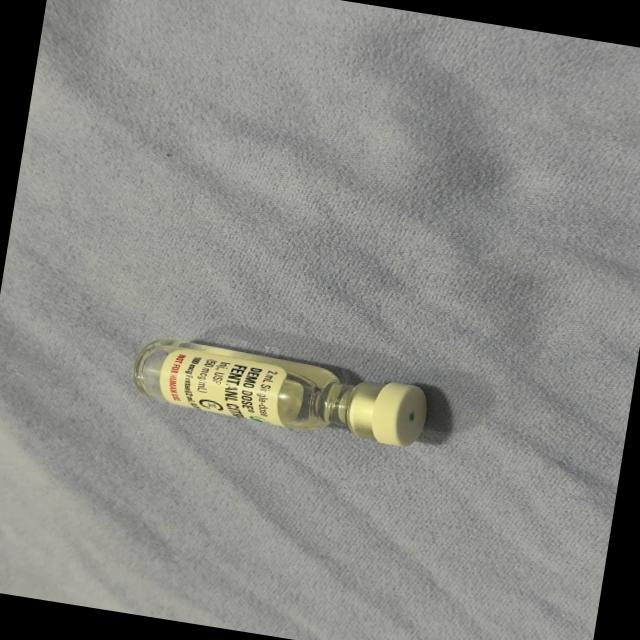fentanl_citrat: (134, 335, 428, 448)
